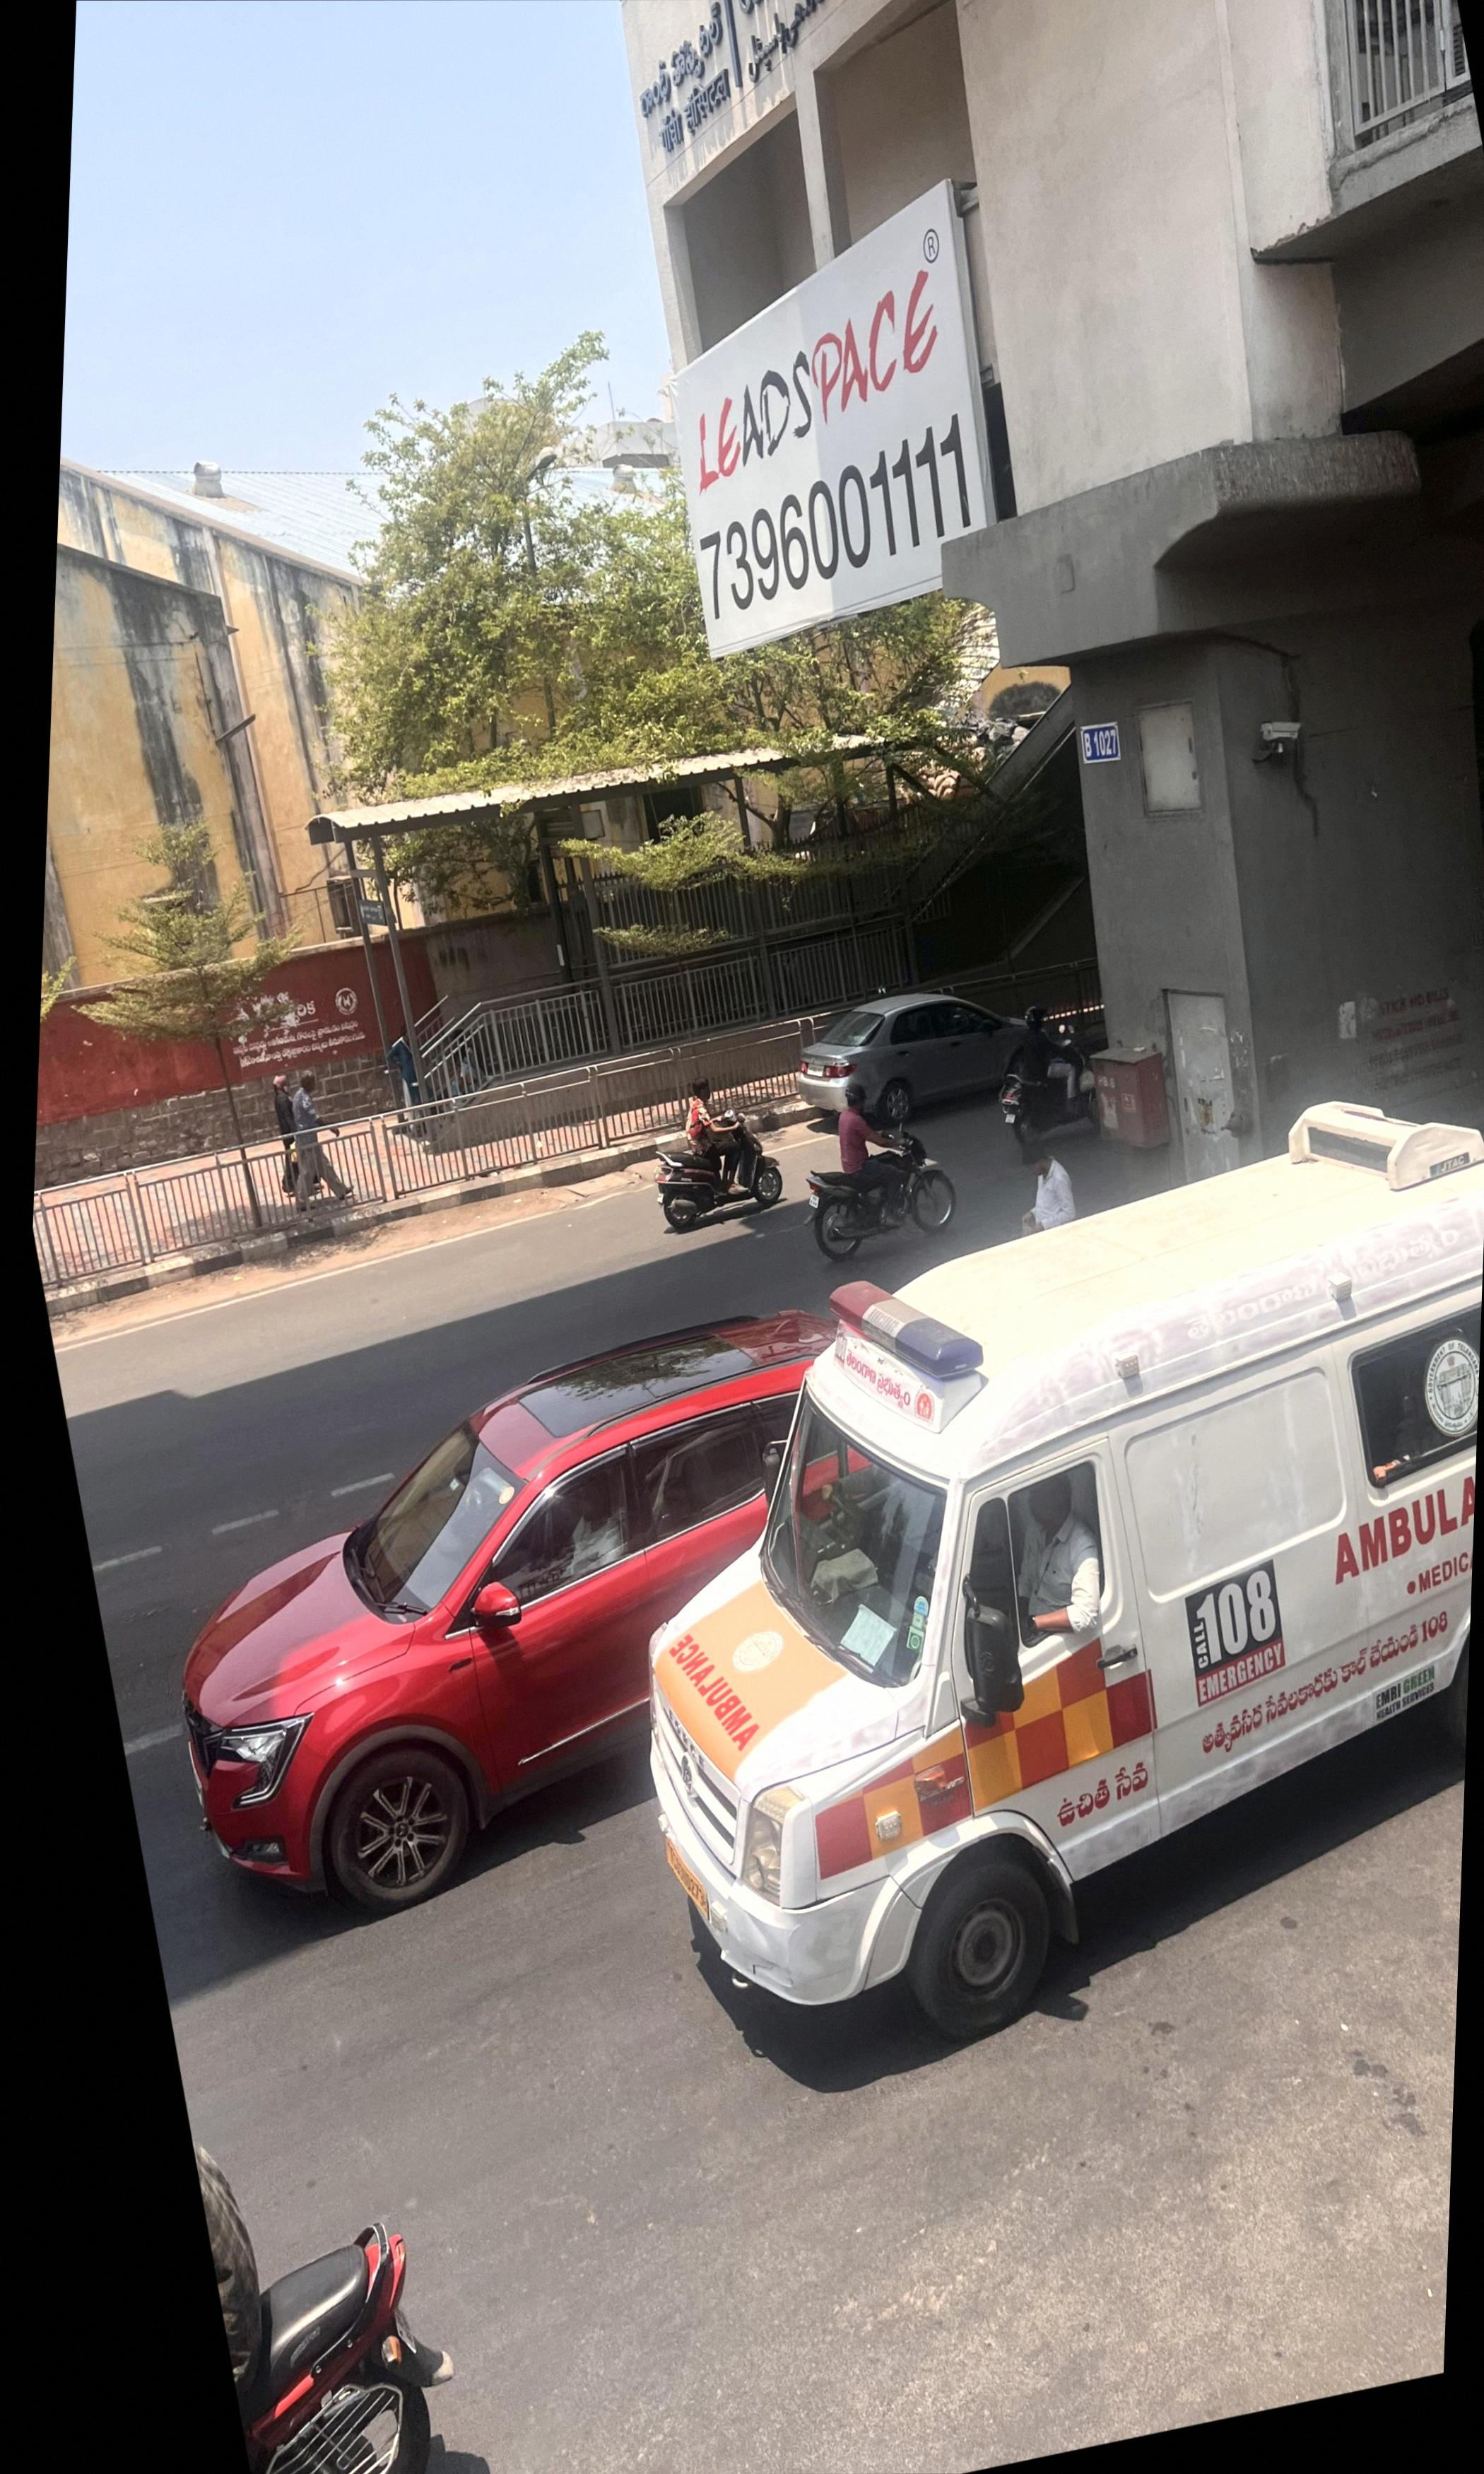ambulance: (643, 1108, 1477, 2036)
